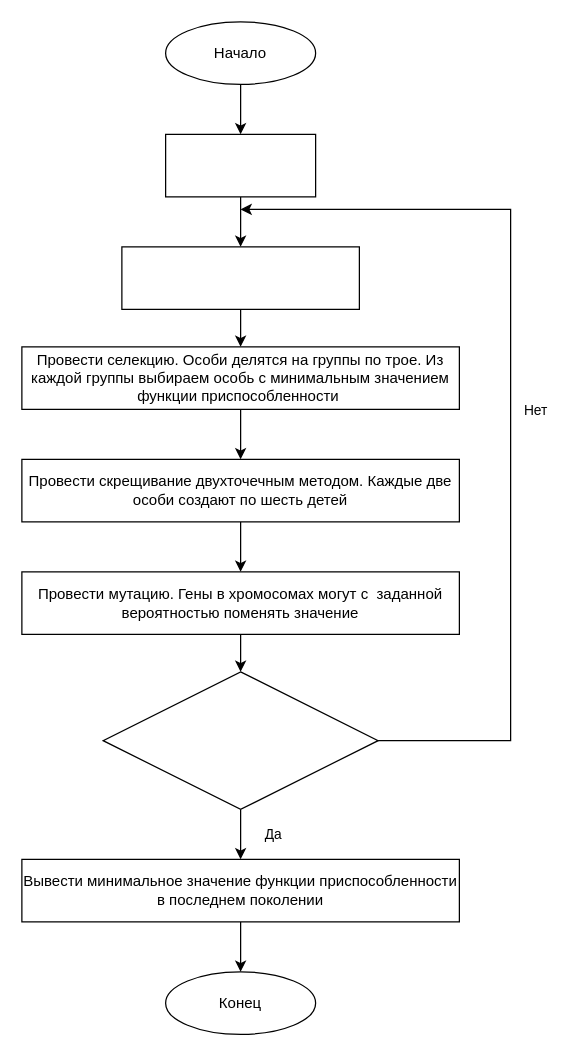
The diagram is 569 pixels wide and 1056 high, and some of its shapes have lost their labels. The shapes that lost their labels are listed below. From the top down, each one's centre as x and y in pixels, then its label:
At pixel 240 165: "Создать популяцию заданного размера".
At pixel 240 277: "Рассчитать значение функции приспособленности для каждой особи".
At pixel 240 740: "Достигли заданного количества поколений?".
